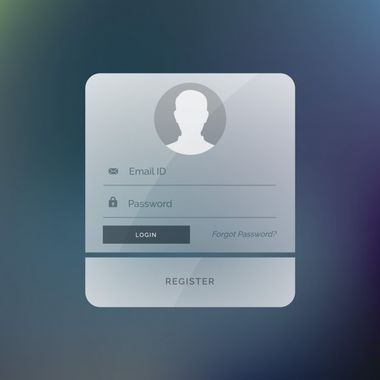button: (102, 225, 192, 246)
field_line: (102, 196, 277, 220), (103, 165, 280, 187)
